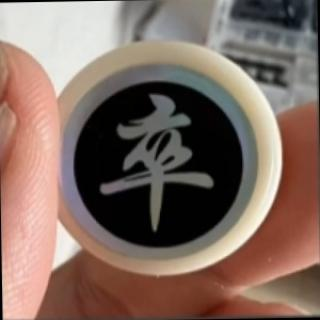qizi: (46, 38, 286, 280)
